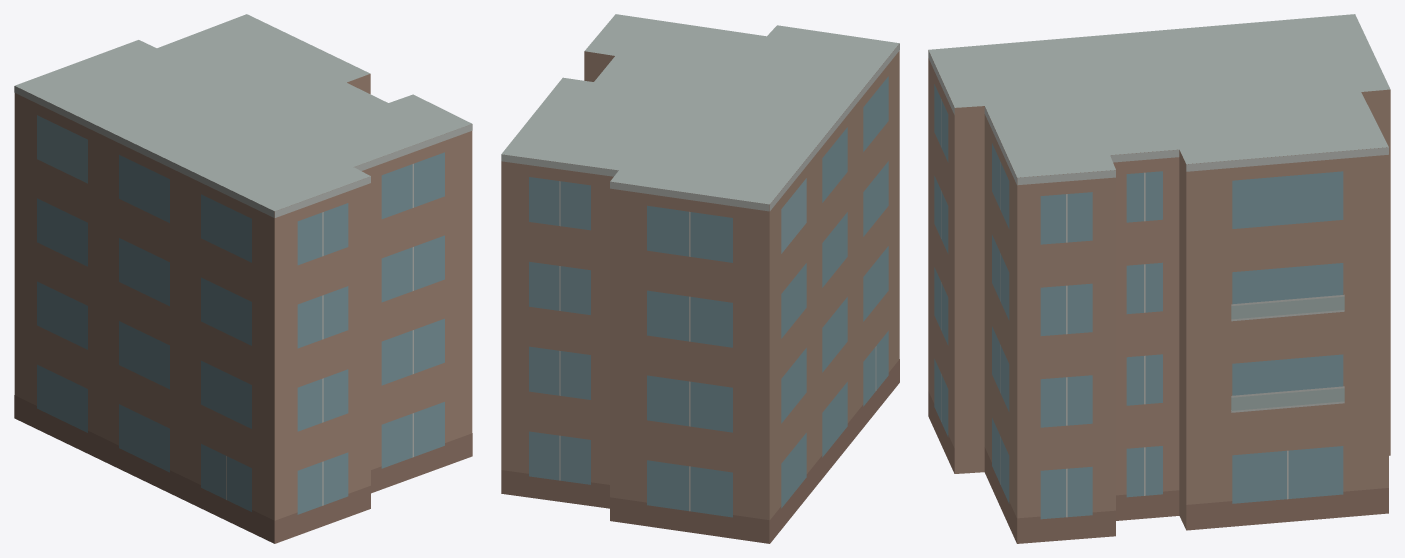
The model's file is survey-upis-32934818.glb.
3 renders of one model, left to right at view 1: azimuth 30°, elevation 25°; view 2: azimuth 150°, elevation 25°; view 3: azimuth 270°, elevation 25°, orthographic. The views are drawn at different scales.
Parts seen in each view (by area): view 1: survey-upis-32934818.tmp; view 2: survey-upis-32934818.tmp; view 3: survey-upis-32934818.tmp.
Boxes of the visible parts, left/top/right/bottom form: survey-upis-32934818.tmp: left=14, top=14, right=472, bottom=543; survey-upis-32934818.tmp: left=501, top=14, right=899, bottom=543; survey-upis-32934818.tmp: left=928, top=14, right=1390, bottom=543.
Bounding box in the file's own units: 11.32 × 11.8 × 13.51.
